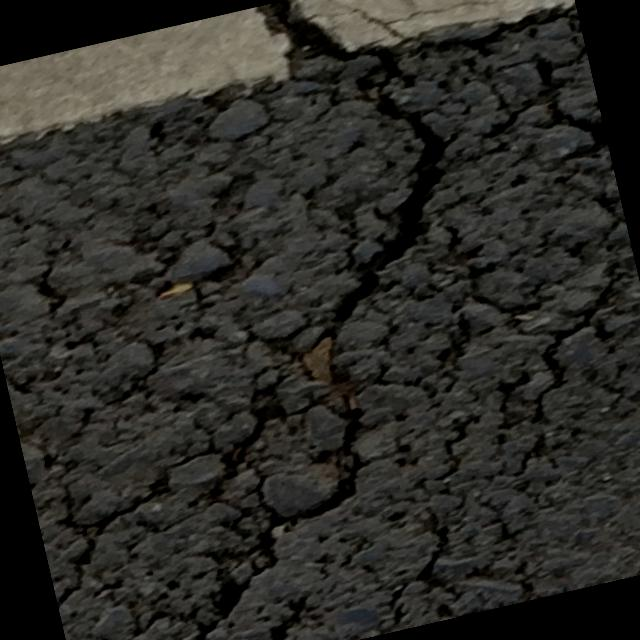crack: (33, 0, 554, 640)
